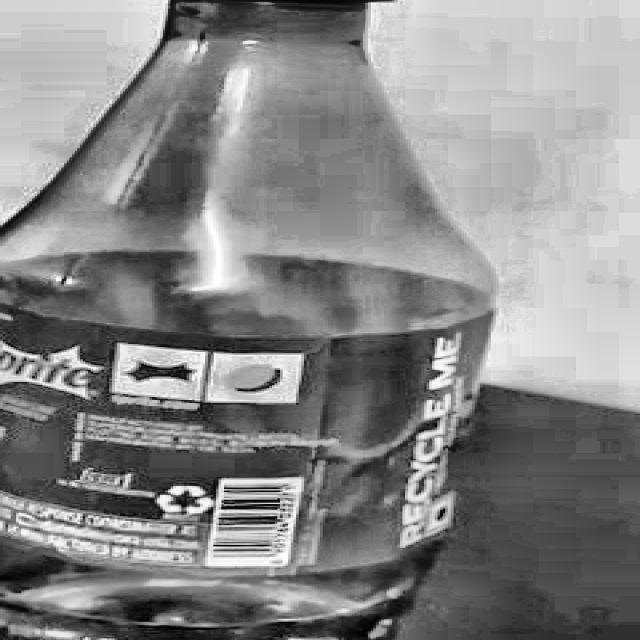bottle: (0, 0, 499, 640)
